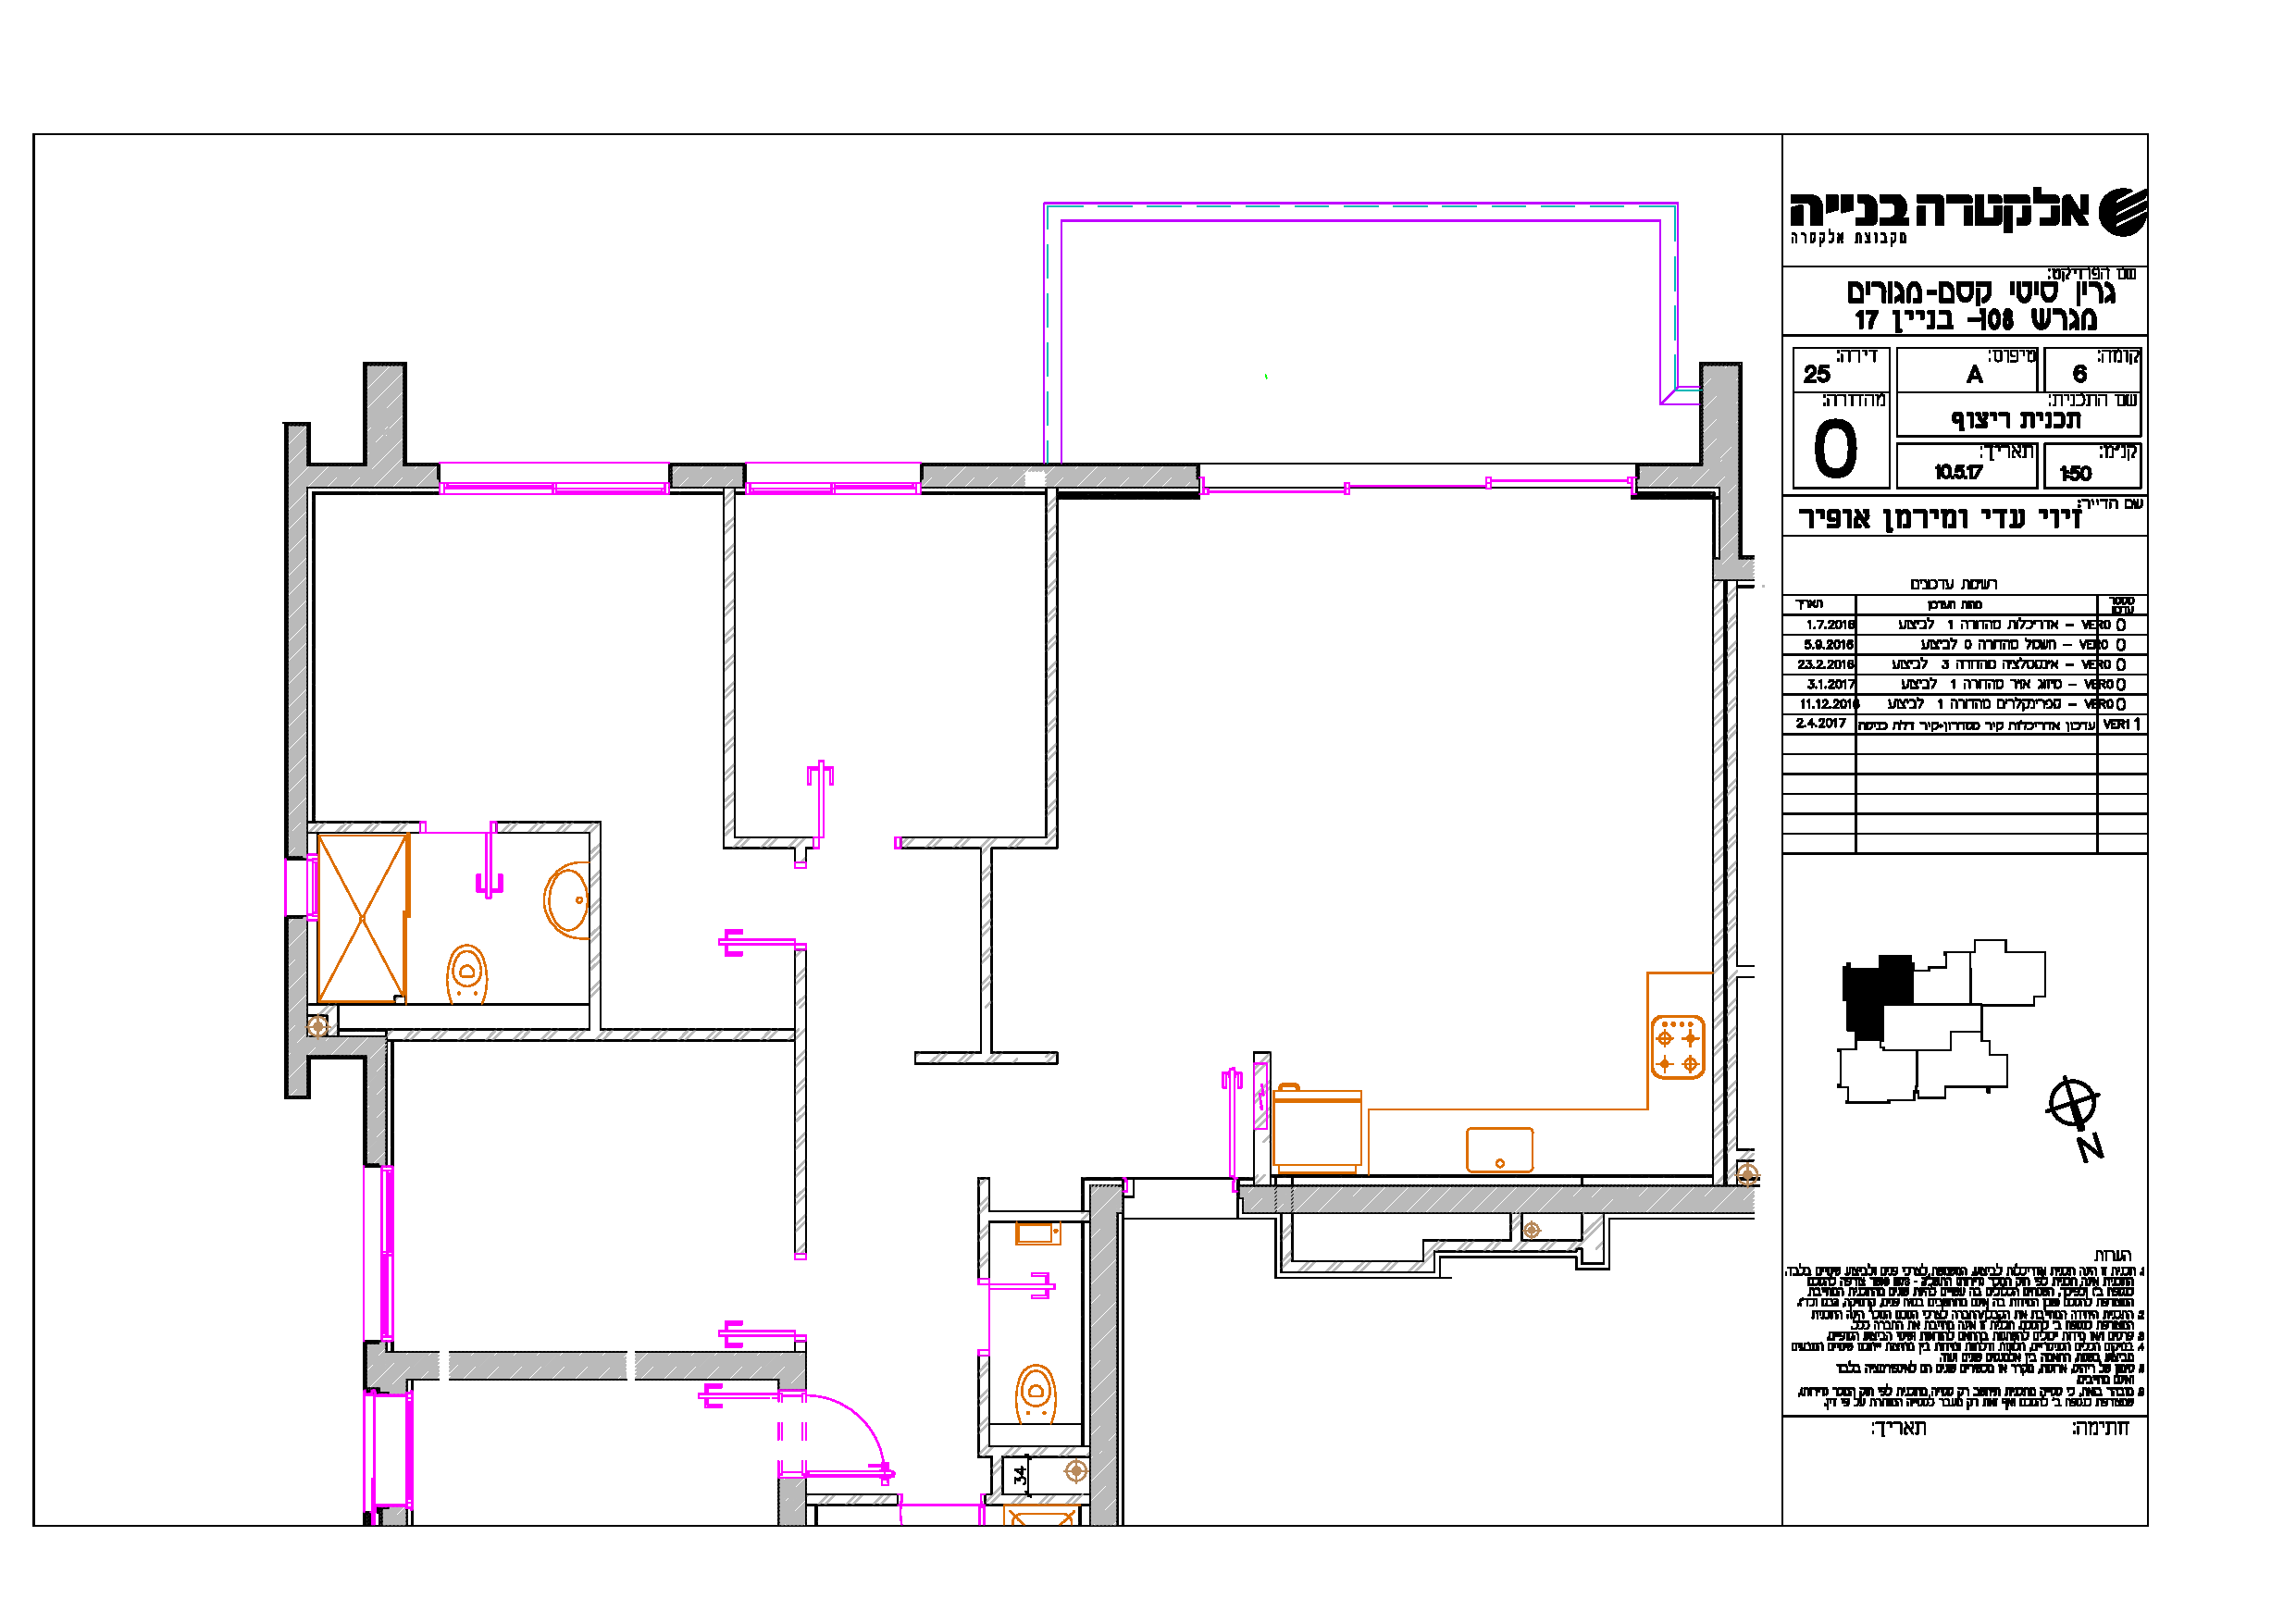wall: (1244, 1184, 1755, 1214), (281, 425, 309, 831), (1096, 1182, 1119, 1521), (917, 467, 1196, 488), (451, 1351, 624, 1382), (365, 357, 404, 495), (283, 919, 309, 1098), (638, 1358, 806, 1382), (1704, 369, 1732, 495), (364, 1038, 388, 1163), (671, 467, 747, 488), (372, 1358, 427, 1382)
